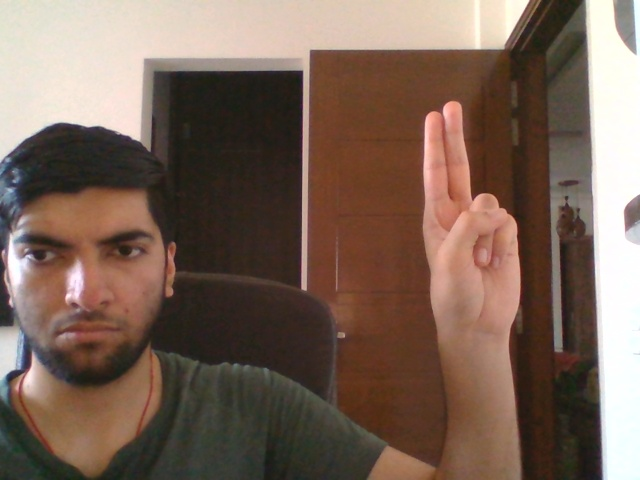LetterU: (420, 99, 524, 337)
